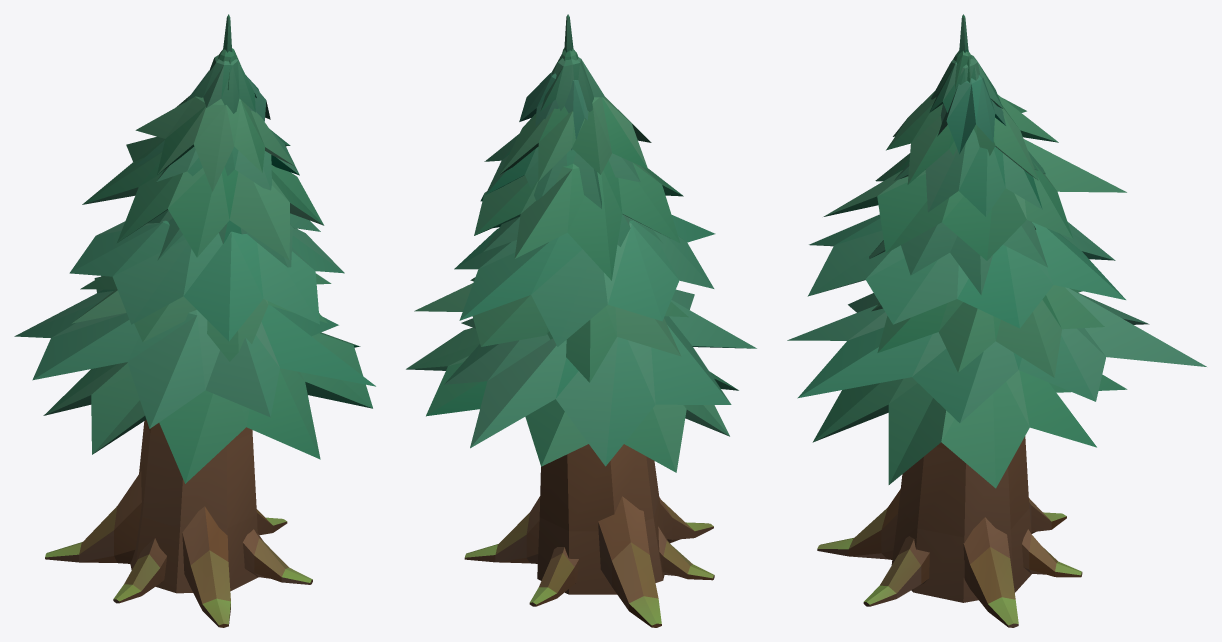
The model's file is world_tree_colossal_pine_v3_lod1.fbx.
3 views of the same model, side by side, from view 1: azimuth 30°, elevation 25°; view 2: azimuth 150°, elevation 25°; view 3: azimuth 270°, elevation 25° (orthographic). The views are drawn at different scales.
Visible parts, largest first — view 1: world_tree_colossal_pine_v3_lod1; view 2: world_tree_colossal_pine_v3_lod1; view 3: world_tree_colossal_pine_v3_lod1.
Part boxes in pixels (x1,y1,x2,y2): world_tree_colossal_pine_v3_lod1: (14, 14, 375, 627); world_tree_colossal_pine_v3_lod1: (406, 14, 756, 627); world_tree_colossal_pine_v3_lod1: (787, 14, 1206, 627).
Bounding box in the file's own units: 7316 × 11723 × 7766.
